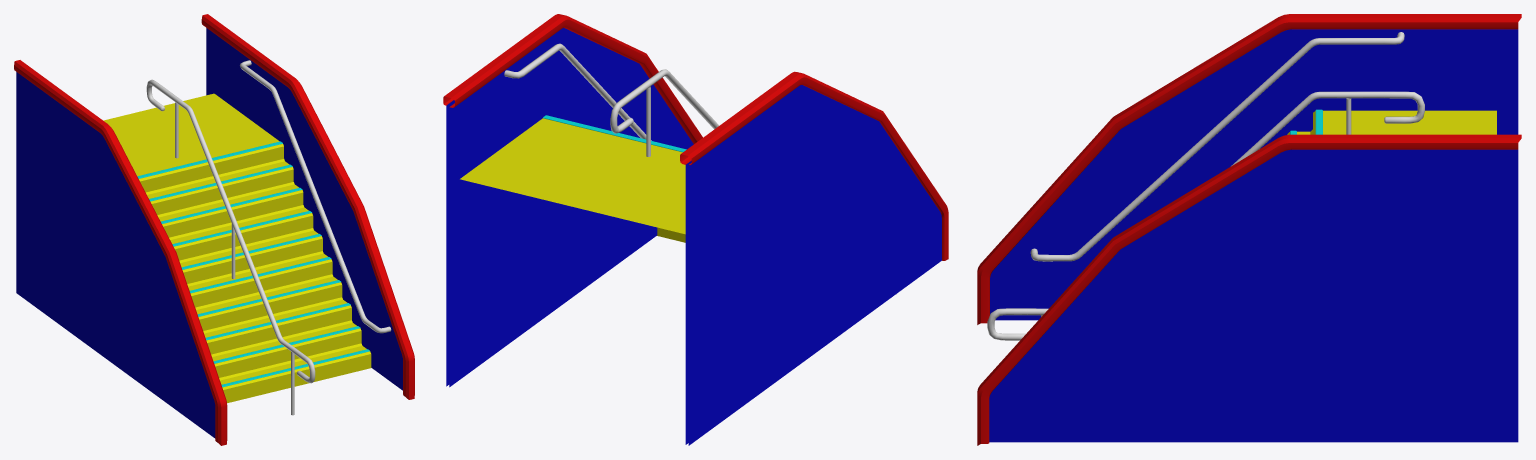
The model's file is staircase_low.fbx.
The picture shows the model from 3 angles, left to right: view 1: azimuth 30°, elevation 25°; view 2: azimuth 150°, elevation 25°; view 3: azimuth 270°, elevation 25°; orthographic projection. The views are drawn at different scales.
Visible parts, largest first — view 1: staircase_low, left_side_low, right_side_low, centre_handrail_low, right_handrail_low; view 2: left_side_low, right_side_low, staircase_low, centre_handrail_low, right_handrail_low; view 3: right_side_low, left_side_low, staircase_low, left_handrail_low, centre_handrail_low.
Boxes of the visible parts, x1,y1,x2,y2 form: staircase_low: (103, 93, 371, 403); left_side_low: (14, 60, 227, 445); right_side_low: (201, 14, 414, 399); centre_handrail_low: (146, 79, 315, 415); right_handrail_low: (240, 60, 391, 333); left_side_low: (680, 71, 948, 445); right_side_low: (443, 14, 702, 387); staircase_low: (460, 115, 686, 242); centre_handrail_low: (610, 69, 719, 156); right_handrail_low: (504, 43, 651, 140); right_side_low: (977, 134, 1521, 445); left_side_low: (977, 14, 1521, 324); staircase_low: (1287, 109, 1496, 134); left_handrail_low: (1030, 32, 1404, 261); centre_handrail_low: (987, 91, 1424, 340).
Size of the model in its own units: 588 by 696 by 1068.
